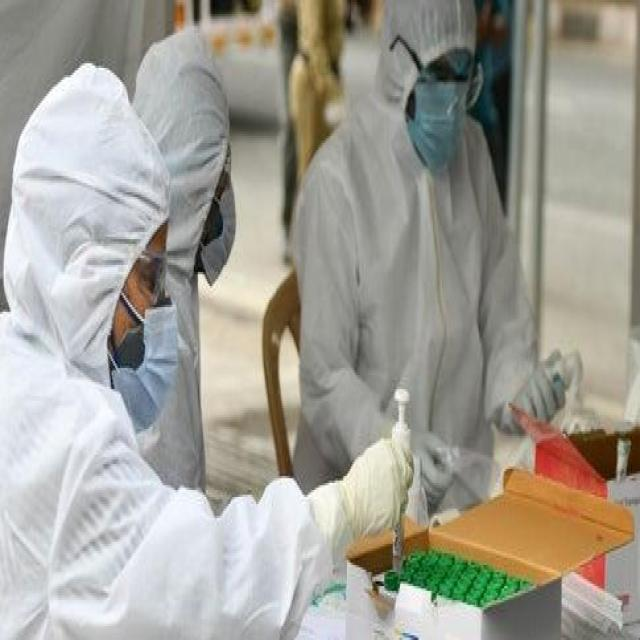Coverall: (0, 56, 326, 640), (295, 2, 535, 450), (131, 26, 236, 492)
Gloves: (342, 425, 416, 542), (514, 347, 568, 427), (412, 427, 453, 509)
Goggles: (416, 54, 484, 112), (132, 246, 174, 300)
Mask: (108, 300, 180, 431), (407, 77, 469, 171), (198, 183, 236, 286)
